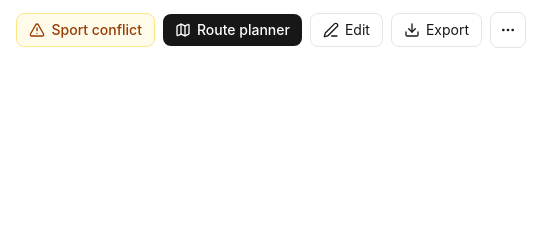
Test: ActivityActionBar › localizes visible action labels in English
Expected: the button "Sport conflict" is shown, [16,13,155,47]
Expected: the button "Edit" is shown, [310,13,383,47]
Click the button named "More actions" at (508, 30), box [490,12,526,48]
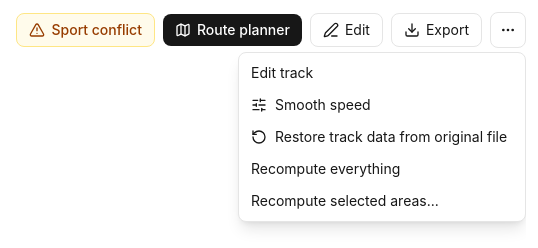
Expected: the button "Smooth speed" is shown, [243,89,521,121]
Expected: the button "Recompute selected areas..." is shown, [243,185,521,217]
